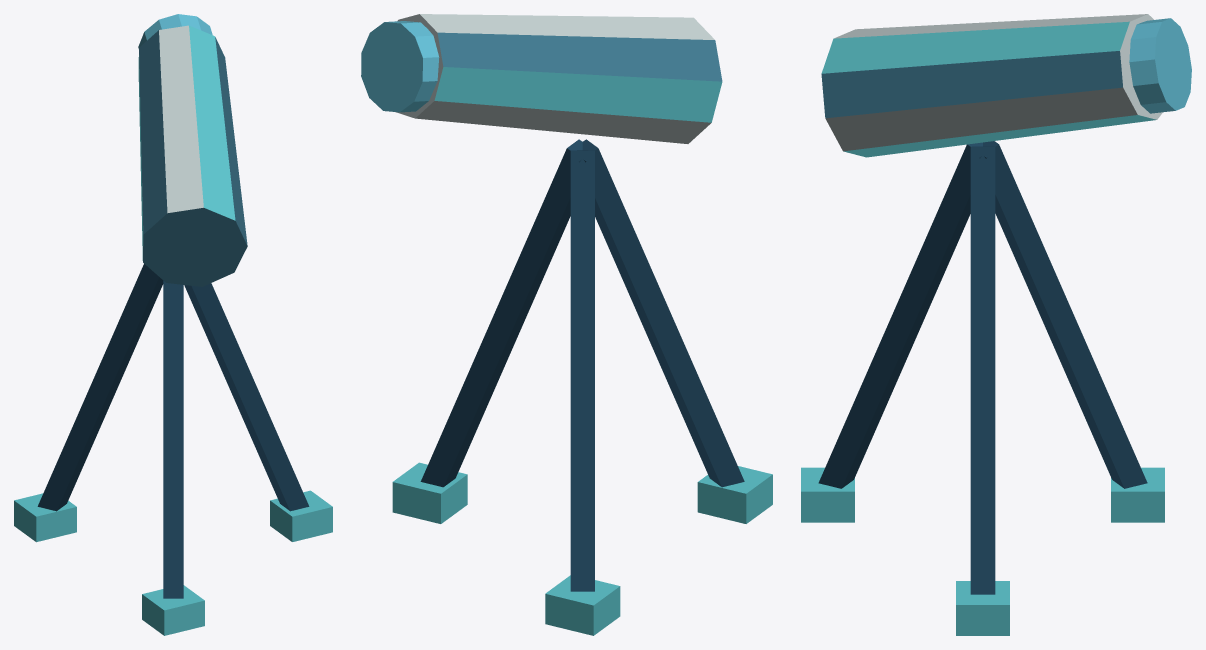
Rendered from survey-tripod.glb.
3 views of the same model, side by side, from view 1: azimuth 30°, elevation 25°; view 2: azimuth 150°, elevation 25°; view 3: azimuth 270°, elevation 25° (orthographic). The views are drawn at different scales.
Parts seen in each view (by area): view 1: survey-tripod; view 2: survey-tripod; view 3: survey-tripod.
Boxes of the visible parts, box(x1,y1,x2,y2) form: survey-tripod: box(14, 14, 332, 635); survey-tripod: box(361, 14, 772, 635); survey-tripod: box(801, 14, 1191, 635).
Bounding box in the file's own units: 1.15 × 2.22 × 1.38.
